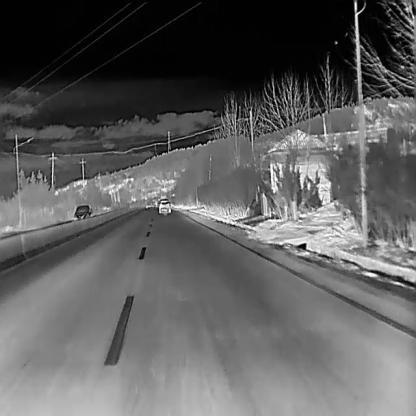car: (72, 203, 91, 220), (159, 198, 170, 214)
